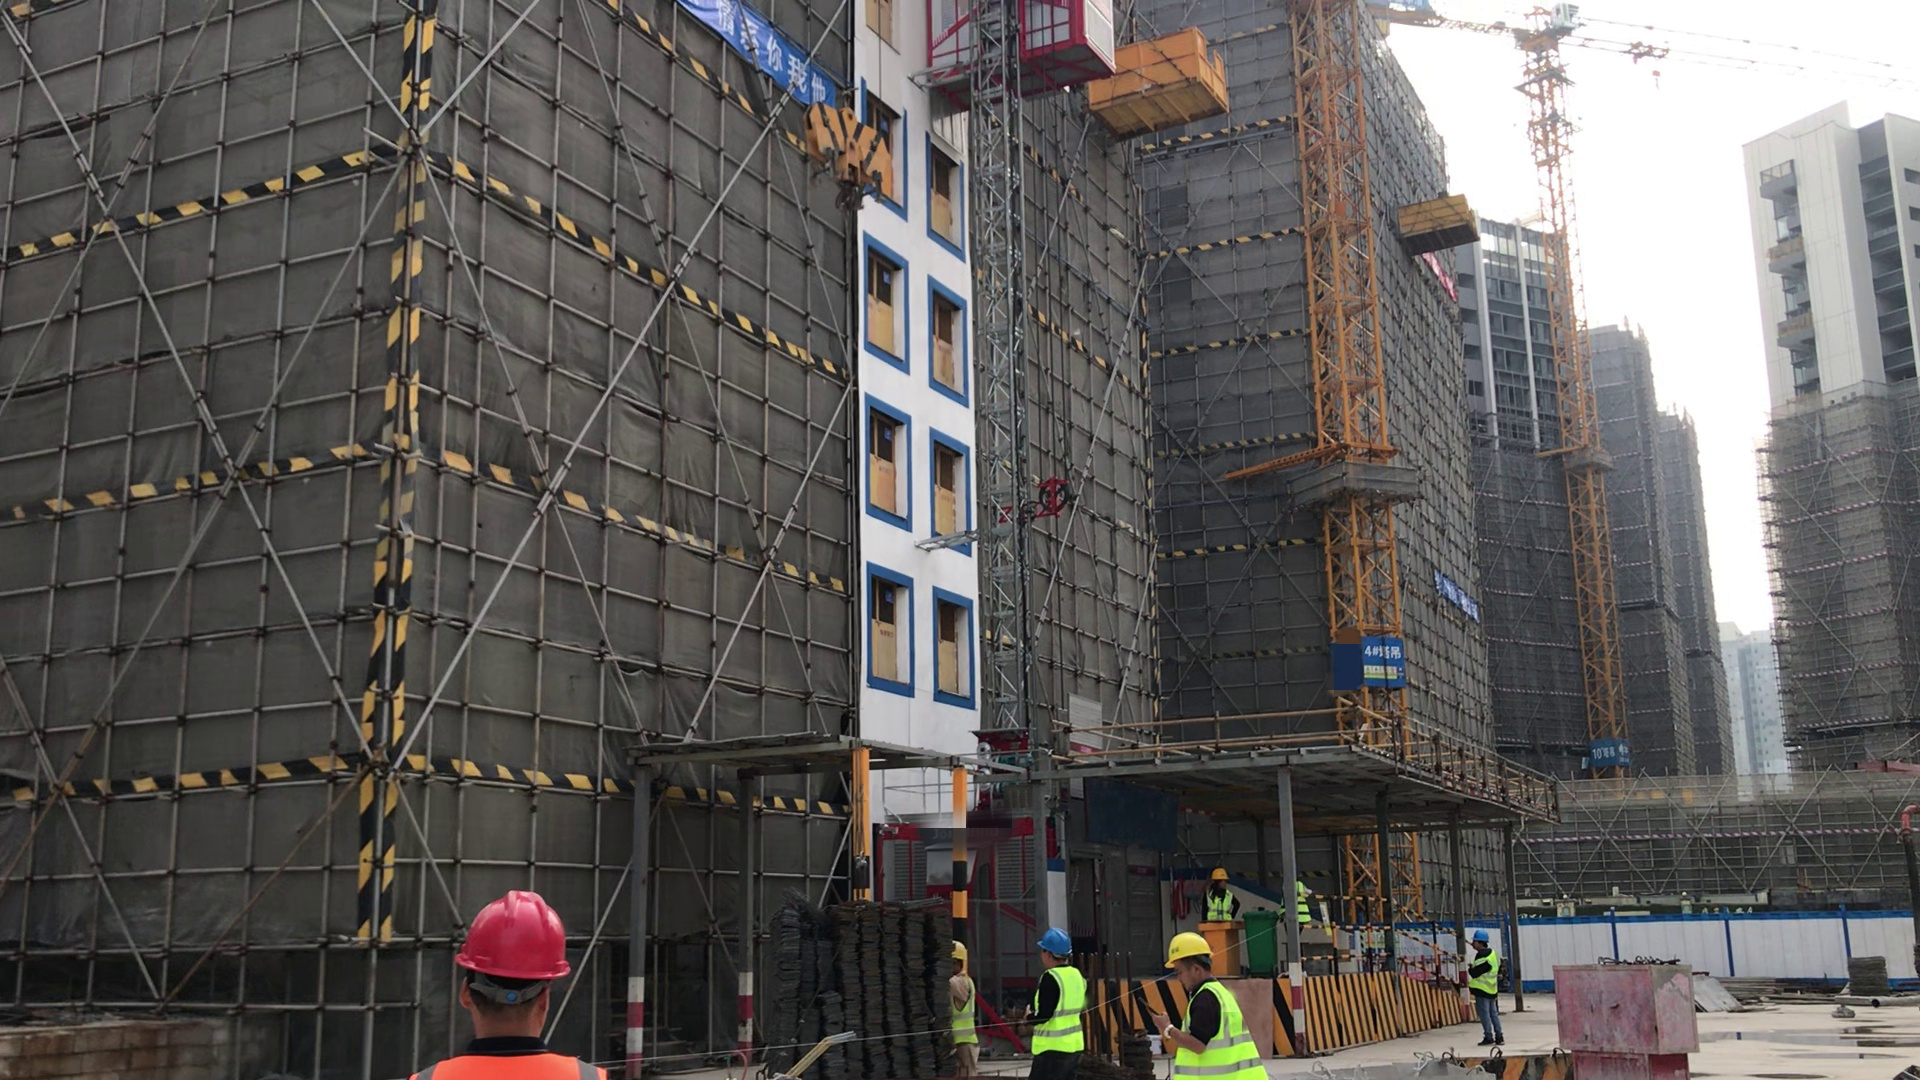helmet: (452, 884, 576, 980), (1162, 931, 1217, 973), (1033, 928, 1076, 960), (946, 940, 968, 964), (1212, 864, 1231, 884), (1474, 928, 1491, 947)
hook: (789, 95, 899, 206)
person: (412, 884, 612, 1080), (1131, 932, 1280, 1080), (1018, 925, 1091, 1080), (1465, 928, 1510, 1048), (945, 935, 982, 1080), (1197, 860, 1242, 938), (1276, 871, 1325, 935)
slogan: (706, 7, 843, 106)
vest: (1168, 977, 1266, 1072), (1022, 963, 1089, 1058), (944, 968, 980, 1049)
